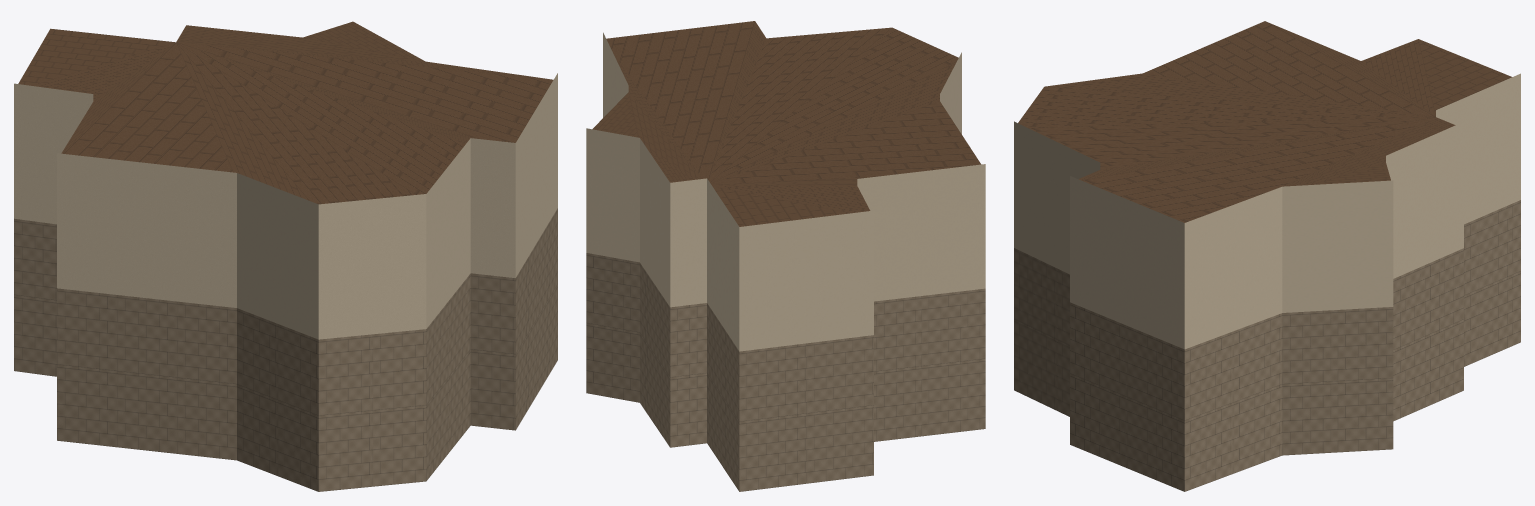
The model's file is bld_c40_48_192.gltf.
3 renders of one model, left to right at view 1: azimuth 30°, elevation 25°; view 2: azimuth 150°, elevation 25°; view 3: azimuth 270°, elevation 25°, orthographic. The views are drawn at different scales.
Parts seen in each view (by area): view 1: bld_c40_48_192; view 2: bld_c40_48_192; view 3: bld_c40_48_192.
Part boxes in pixels (box(x1,y1,x2,y2)): bld_c40_48_192: box(14, 21, 557, 491); bld_c40_48_192: box(586, 21, 985, 491); bld_c40_48_192: box(1014, 21, 1520, 491).
Bounding box in the file's own units: 15.3 × 9.18 × 15.68.
4 materials, 4 textured.
